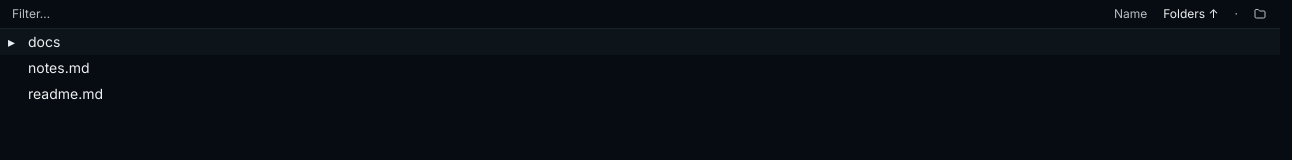
Test: FileTree › inline create › shows an inline error when the new folder name already exists
Click the text "readme.md": (66, 94) [28,84,103,104]
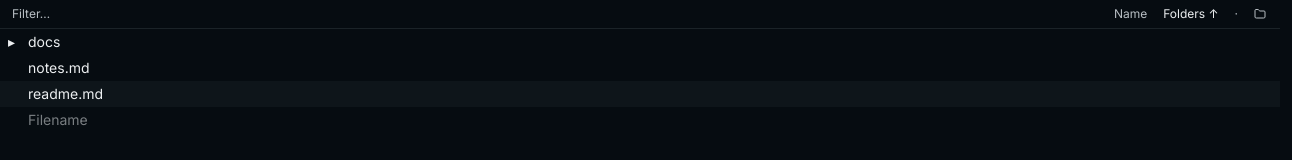
In the field with placeholder "Filename": (654, 120) [28,110,1280,130], type "dup"
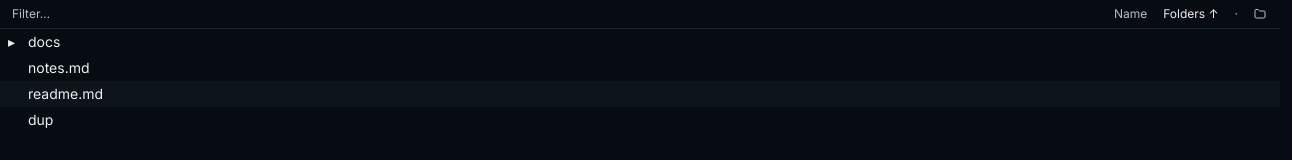
Press Enter in the field with placeholder "Filename", box [28,110,1280,130]
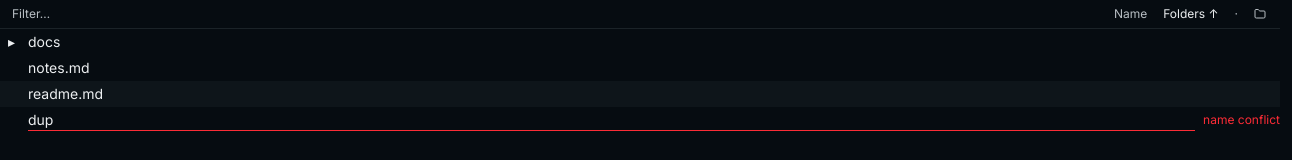
Expected: the message shows "conflict", [1203,112,1280,127]
